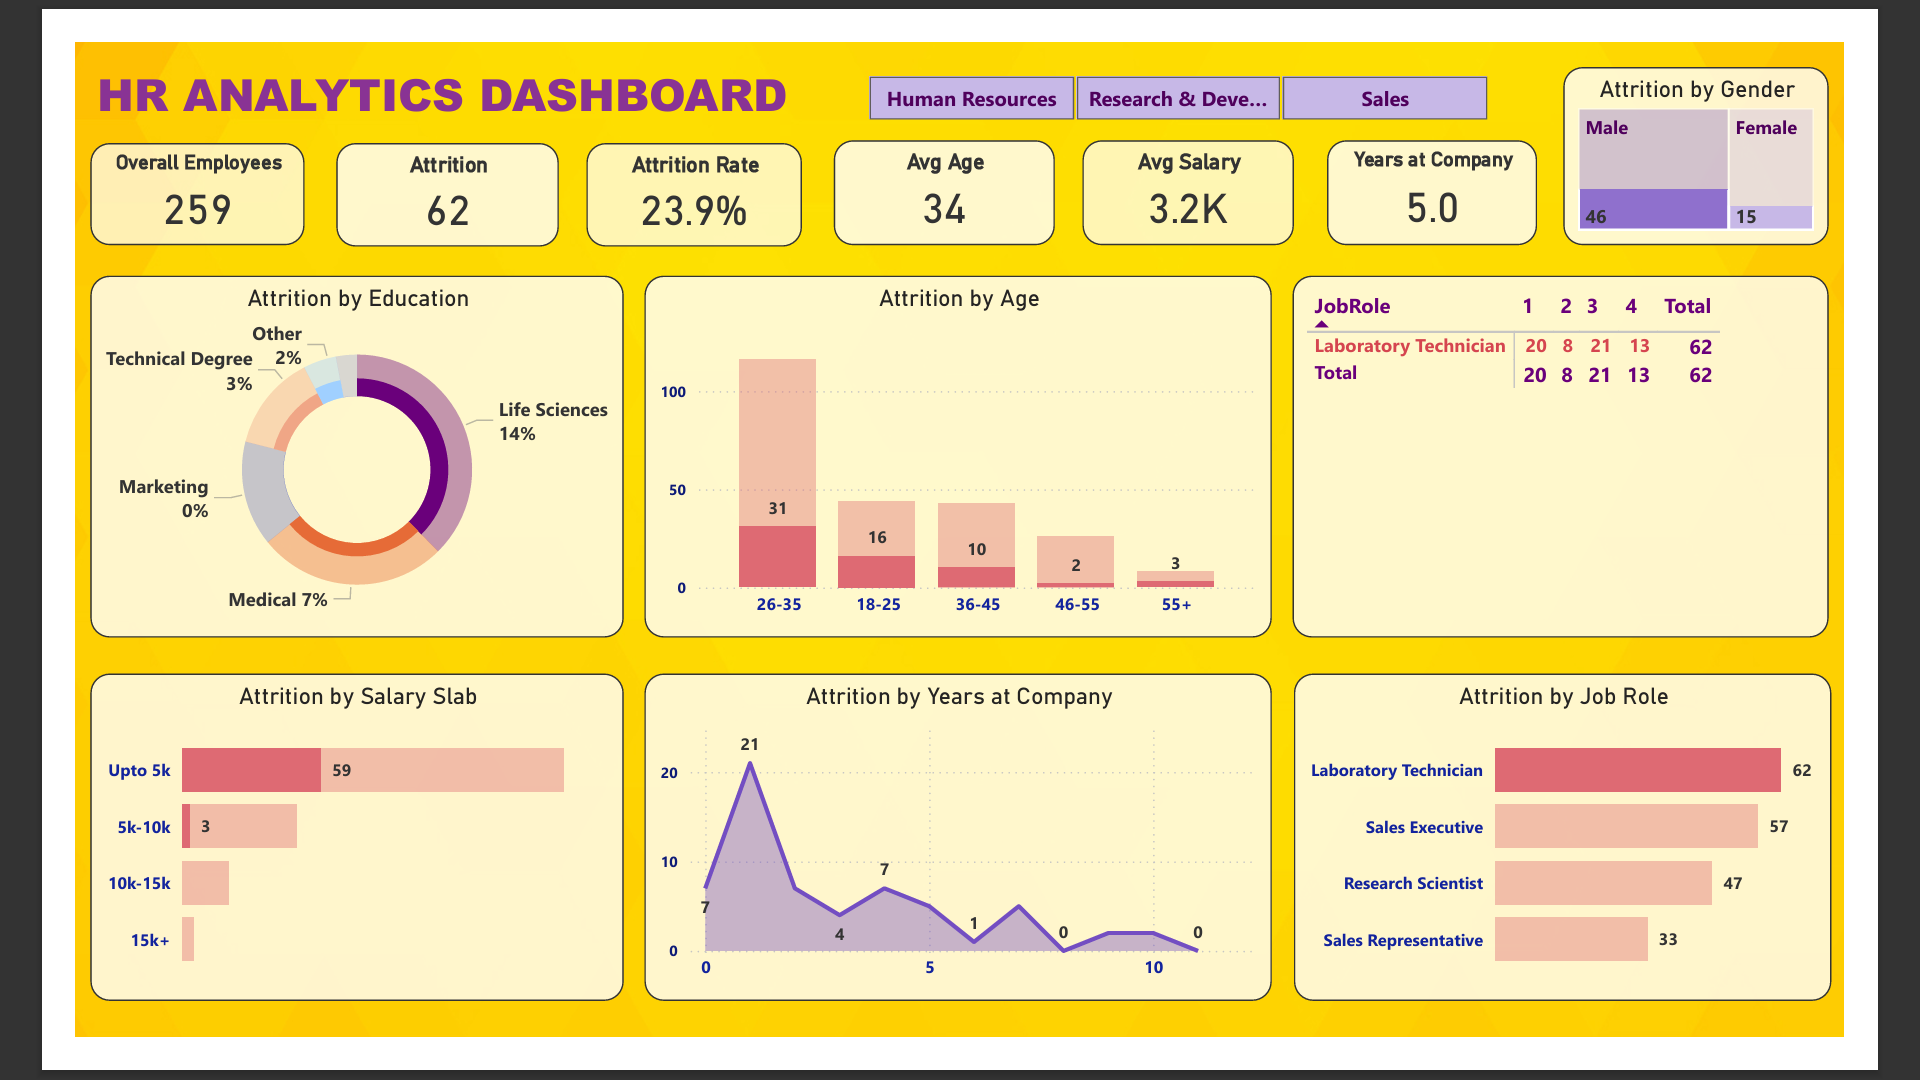

The dashboard page shown, as its layout file describes it:
{"tool":"powerbi","page":{"name":"Page 1","canvas":[1280,720],"ordinal":0},"visuals":[{"type":"card","title":"Overall Employees","fields":{"Values":["CountNonNull(HR_Analytics.EmpID)"]},"box":[11,72.7,155.1,74.1],"z":0},{"type":"card","title":"Attrition","fields":{"Values":["Sum(HR_Analytics.AttritionCount)"]},"box":[189.4,72.7,160.5,75.5],"z":1000},{"type":"card","title":"Attrition Rate","fields":{"Values":["HR_Analytics.AttritionRate"]},"box":[370.5,72.7,155.1,75.5],"z":2000},{"type":"card","title":"Avg Age","fields":{"Values":["Avg(HR_Analytics.Age)"]},"box":[548.9,71.4,160.5,75.5],"z":3000},{"type":"card","title":"Avg Salary","fields":{"Values":["Avg(HR_Analytics.MonthlyIncome)"]},"box":[728.6,71.4,153.7,75.5],"z":4000},{"type":"card","title":"Years at Company","fields":{"Values":["Avg(HR_Analytics.YearsAtCompany)"]},"box":[905.7,71.4,152.3,75.5],"z":5000},{"type":"donutChart","title":"Attrition by Education","fields":{"Category":["HR_Analytics.EducationField"],"Y":["Sum(HR_Analytics.AttritionCount)"]},"box":[11,168.8,385.6,262.1],"z":6000},{"type":"columnChart","title":"Attrition by Age","fields":{"Category":["HR_Analytics.AgeGroup"],"Y":["Sum(HR_Analytics.AttritionCount)"]},"box":[411.7,168.8,454.2,262.1],"z":7000},{"type":"pivotTable","fields":{"Rows":["HR_Analytics.JobRole"],"Columns":["HR_Analytics.JobSatisfaction"],"Values":["Sum(HR_Analytics.AttritionCount)"]},"box":[881,168.8,388.3,262.1],"z":8000},{"type":"barChart","title":"Attrition by Job Role","fields":{"Category":["HR_Analytics.JobRole"],"Y":["Sum(HR_Analytics.AttritionCount)"]},"box":[882.3,456.9,388.3,237.4],"z":9000},{"type":"barChart","title":"Attrition by Salary Slab","fields":{"Category":["HR_Analytics.SalarySlab"],"Y":["Sum(HR_Analytics.AttritionCount)"]},"box":[11,456.9,385.6,237.4],"z":10000},{"type":"areaChart","title":"Attrition by Years at Company","fields":{"Category":["HR_Analytics.YearsAtCompany"],"Y":["Sum(HR_Analytics.AttritionCount)"]},"box":[411.7,456.9,454.2,237.4],"z":11000},{"type":"treemap","title":"Attrition by Gender","fields":{"Group":["HR_Analytics.Gender"],"Values":["Sum(HR_Analytics.AttritionCount)"]},"box":[1077.2,17.8,192.1,129],"z":12000},{"type":"slicer","fields":{"Values":["HR_Analytics.Department"]},"box":[548.9,17.8,496.7,45.3],"z":13000},{"type":"textbox","box":[11,9.6,551.6,61.7],"z":14000}]}

Visuals, with their boxes in screenshot pixels (x1, y1, x2, y2), scaled from the page's 1280x720 canvas onto the 1920x1080 screenshot:
"Overall Employees" card: [16, 109, 249, 220]
"Attrition" card: [284, 109, 525, 222]
"Attrition Rate" card: [556, 109, 788, 222]
"Avg Age" card: [823, 107, 1064, 220]
"Avg Salary" card: [1093, 107, 1323, 220]
"Years at Company" card: [1359, 107, 1587, 220]
"Attrition by Education" donutChart: [16, 253, 595, 646]
"Attrition by Age" columnChart: [618, 253, 1299, 646]
pivotTable - HR_Analytics.JobRole x HR_Analytics.JobSatisfaction: [1322, 253, 1904, 646]
"Attrition by Job Role" barChart: [1323, 685, 1906, 1041]
"Attrition by Salary Slab" barChart: [16, 685, 595, 1041]
"Attrition by Years at Company" areaChart: [618, 685, 1299, 1041]
"Attrition by Gender" treemap: [1616, 27, 1904, 220]
slicer - HR_Analytics.Department: [823, 27, 1568, 95]
textbox: [16, 14, 844, 107]
